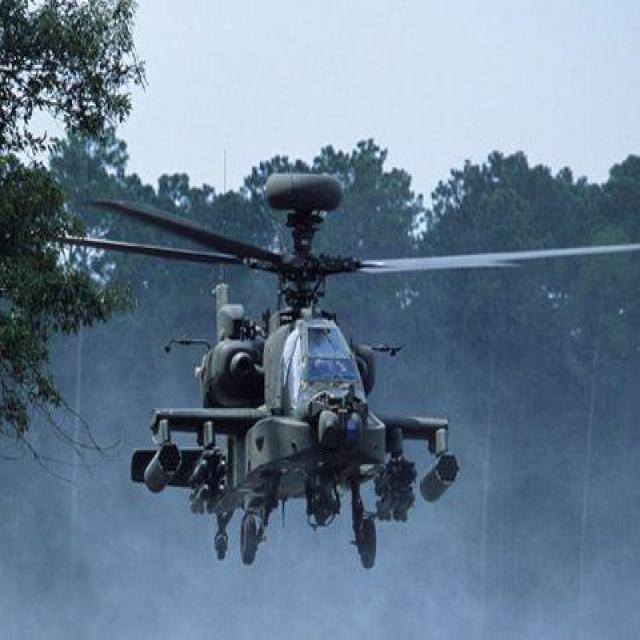MIL_HELO: (48, 166, 640, 573)
